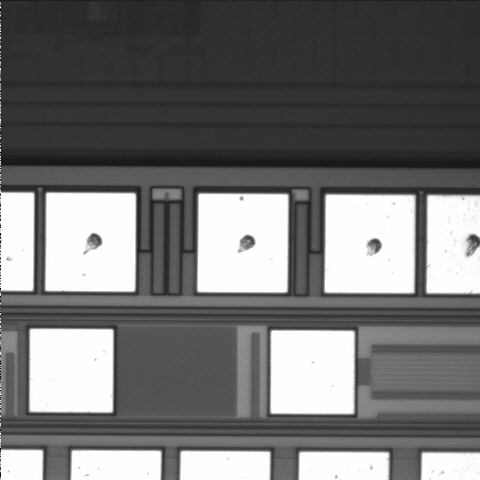pad: (46, 193, 136, 292), (198, 194, 288, 292), (325, 195, 415, 293), (30, 329, 113, 412), (271, 331, 354, 414)
